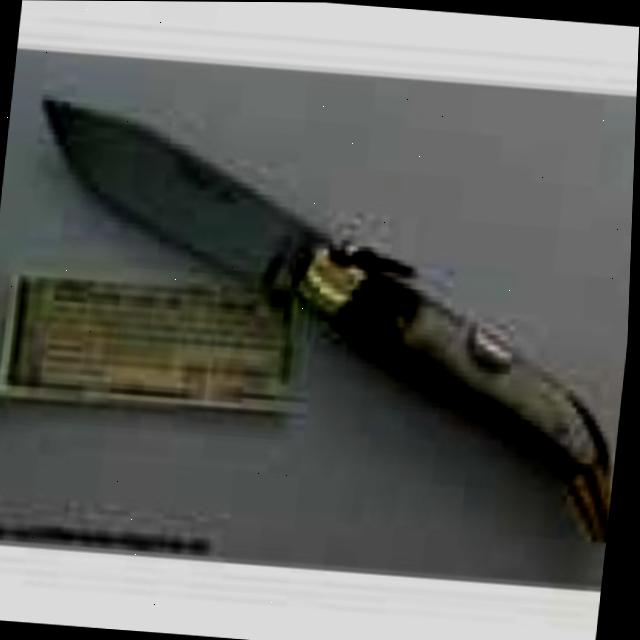pocket-knife: (0, 96, 637, 549)
